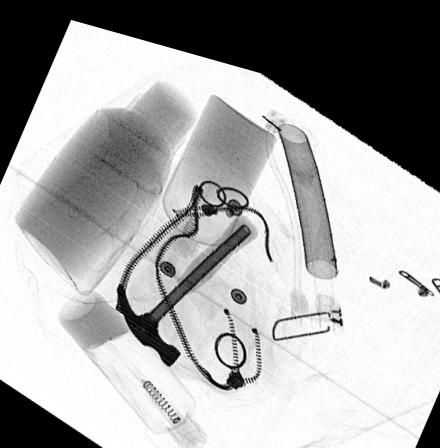Hammer: (115, 200, 258, 359)
